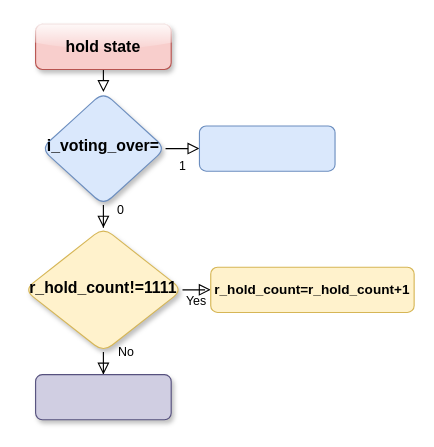
Some shapes in this 434 by 447 pixel diagram are drawn without their labels. The shapes that lost their labels are listed below. From the top down, each one's centre as x and y in pixels, then its label:
the point at 266,148: r_next_state=finish
the point at 104,398: r_next_state=vote
